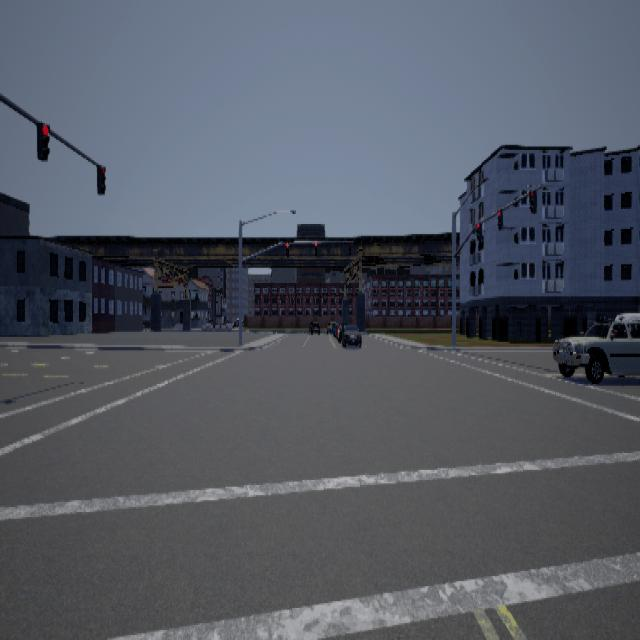red_light: (38, 120, 51, 160), (98, 163, 107, 194), (530, 189, 538, 212), (498, 207, 504, 229), (477, 221, 483, 239), (286, 242, 289, 256), (315, 242, 318, 255), (350, 241, 352, 254)
vehicle: (554, 312, 640, 382), (328, 320, 363, 347)
